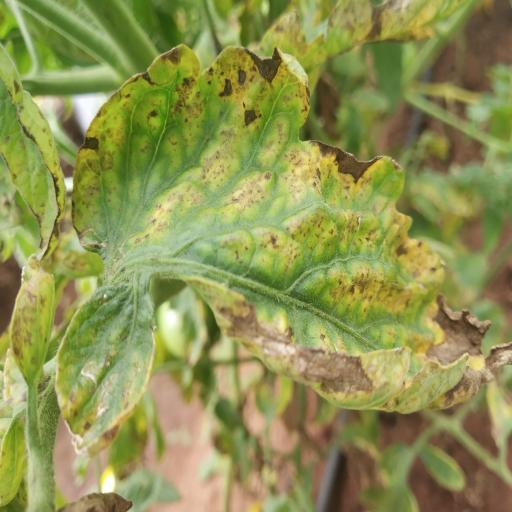disease_tomato: (58, 45, 512, 439)
